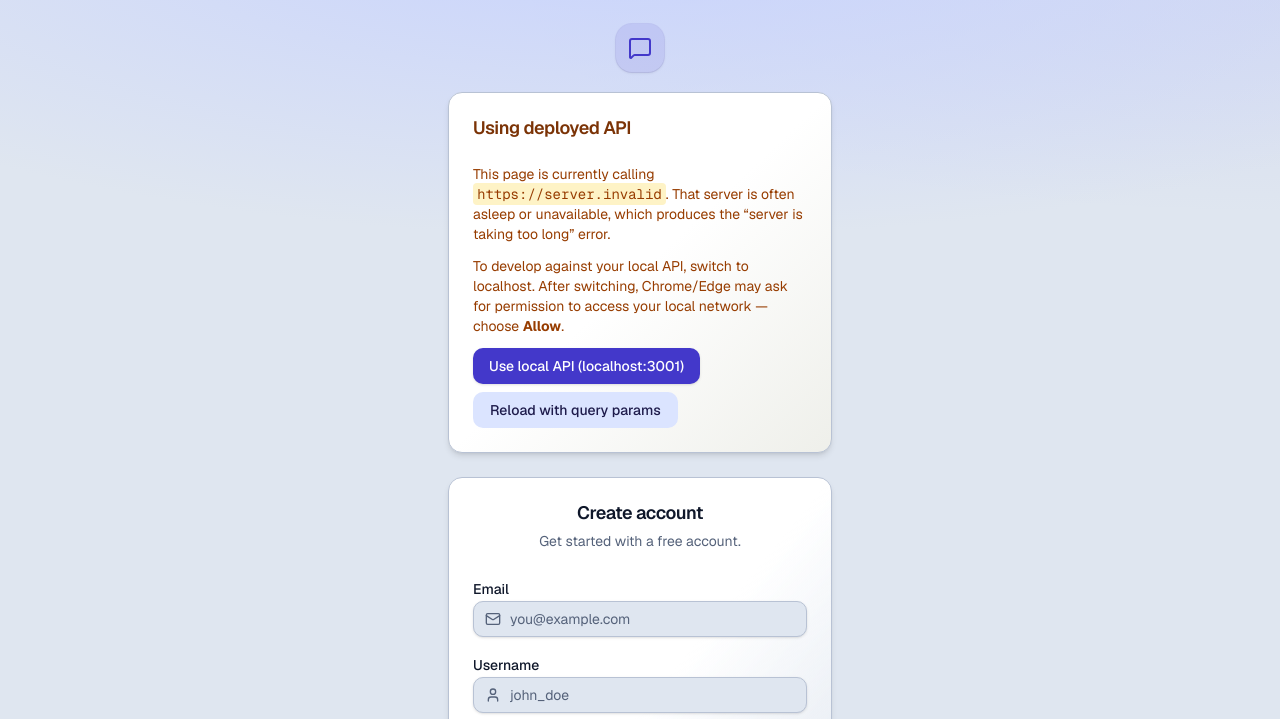
Test case: RegisterPage › shows error for invalid username format
Type "test@example.com" into the field labelled "Email".
click(640, 619); type("test@example.com")  # box x1=473 y1=601 x2=807 y2=637
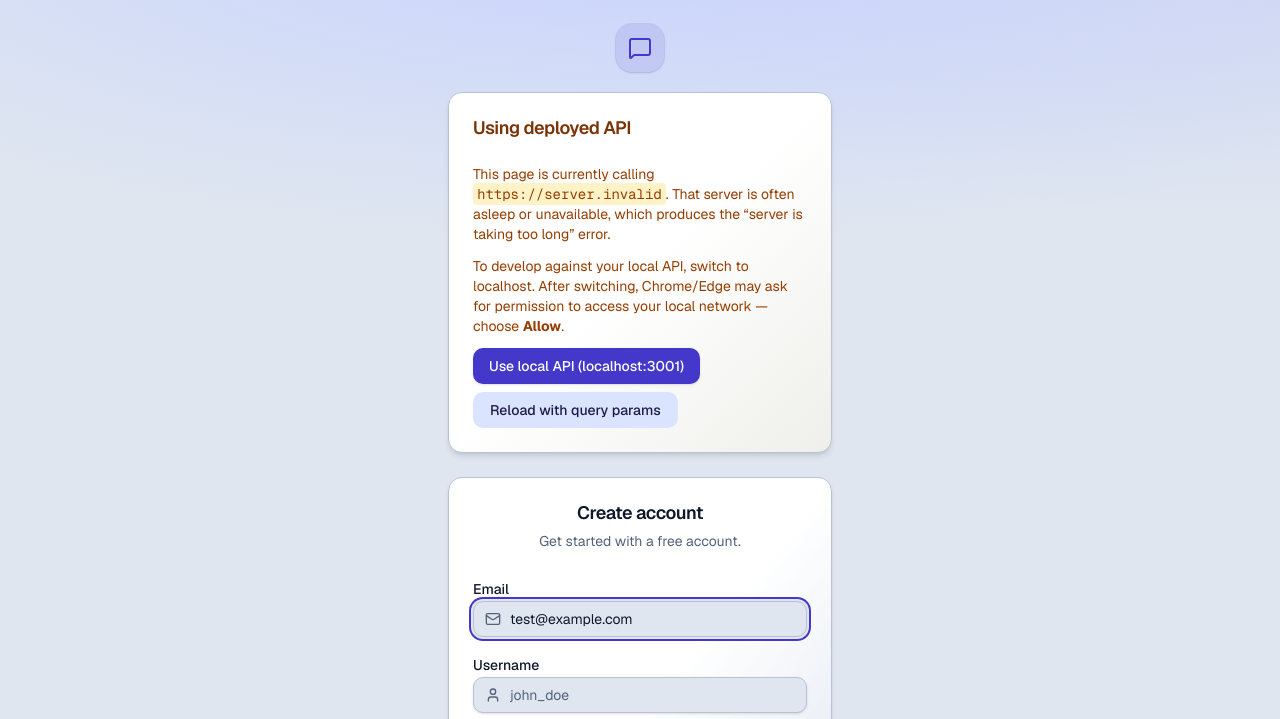
Type "invalid user!" into the field labelled "Username".
click(640, 695); type("invalid user!")  # box x1=473 y1=677 x2=807 y2=713
(page scrolled)
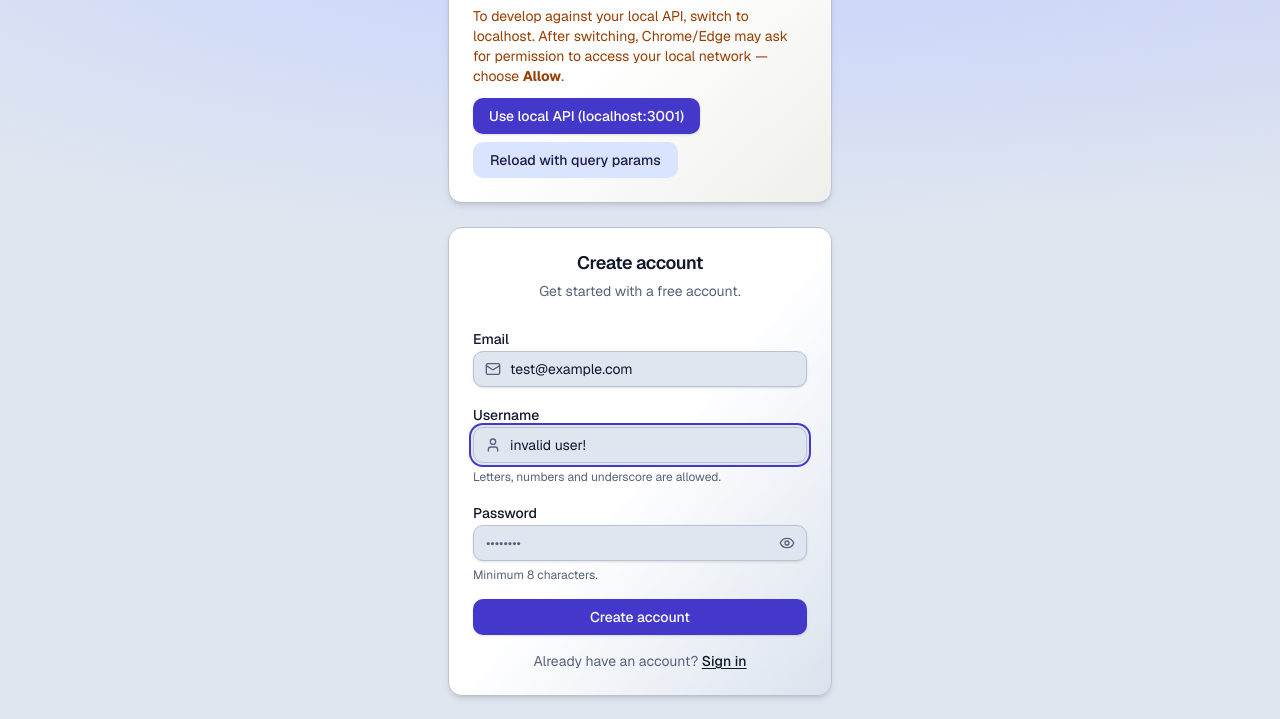
Type "password123" into the password field labelled "Password".
click(640, 543); type("password123")  # box x1=473 y1=525 x2=807 y2=561
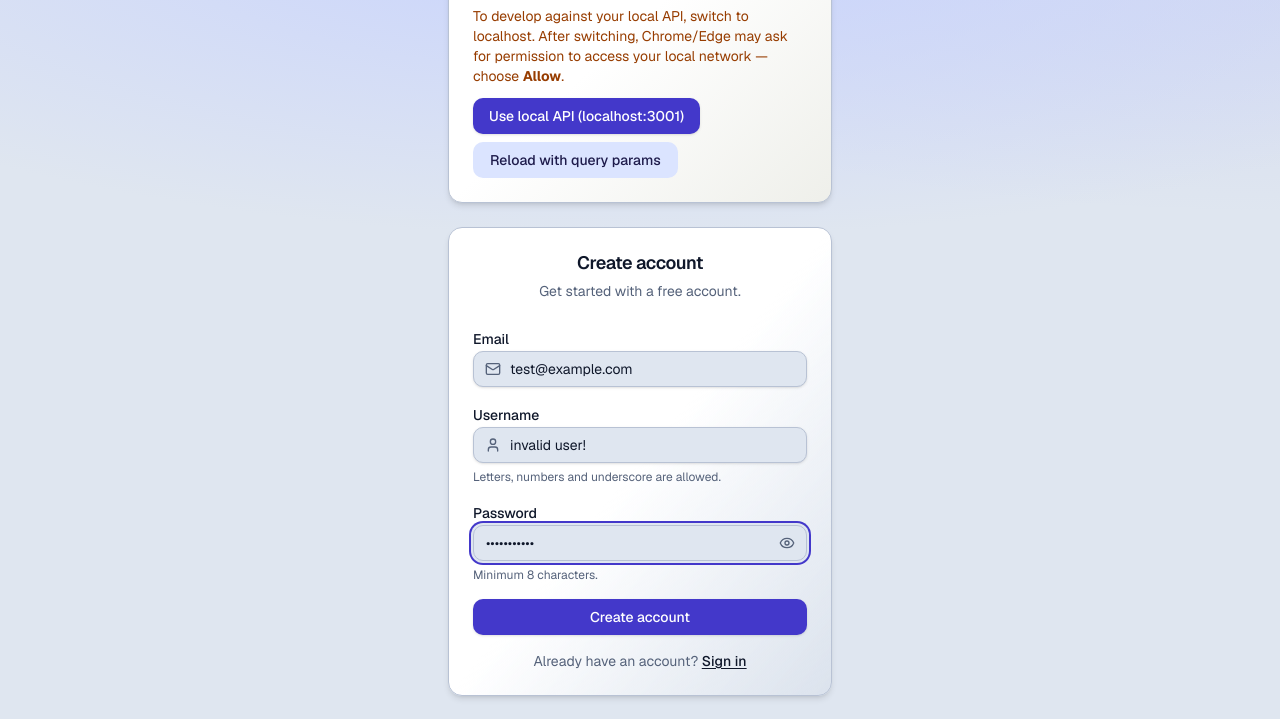
Click the button "Create account".
click(640, 617)  # box x1=473 y1=599 x2=807 y2=635
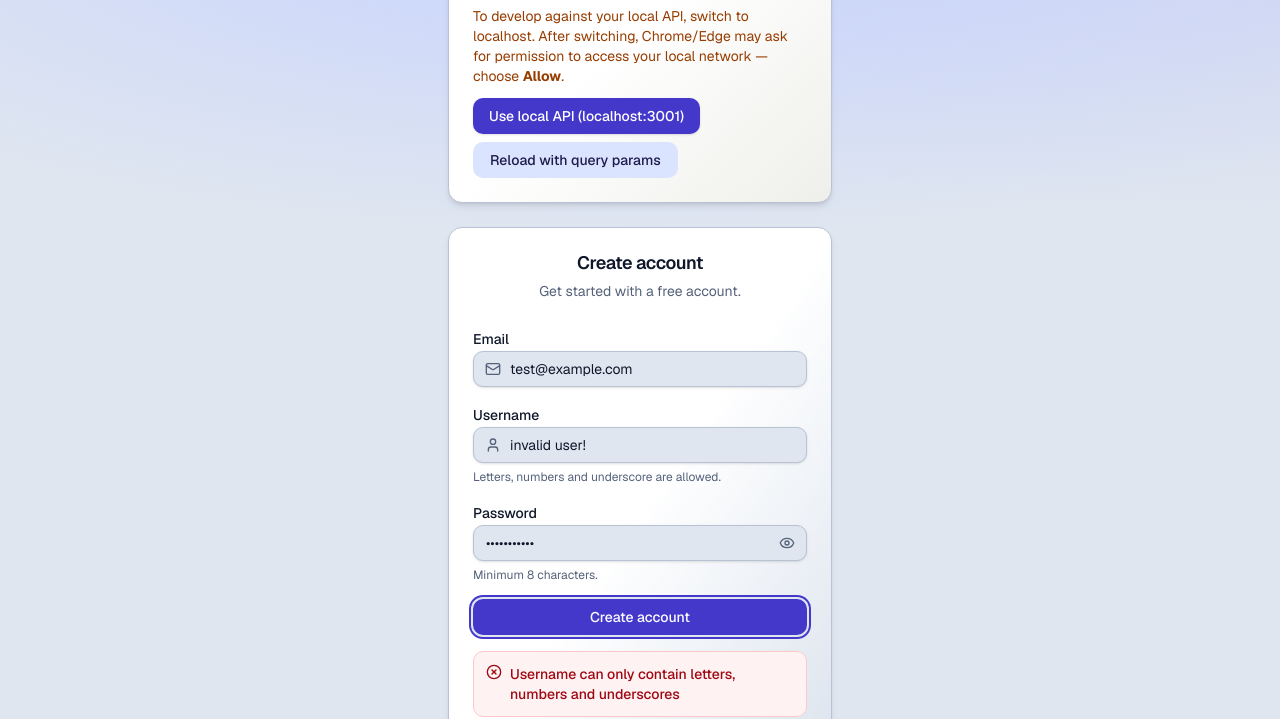
Expected: the text "Username can only contain letters, numbers and underscores" is shown, x1=510 y1=665 x2=735 y2=703
